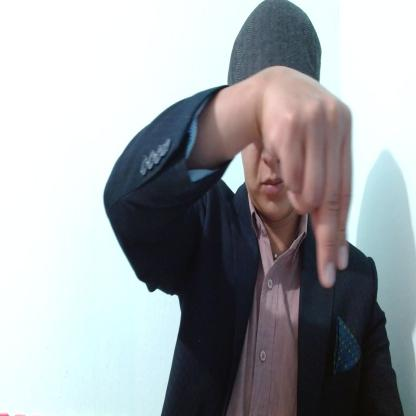N: (257, 67, 353, 288)
